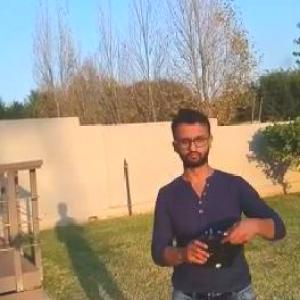follow: (147, 102, 293, 299)
